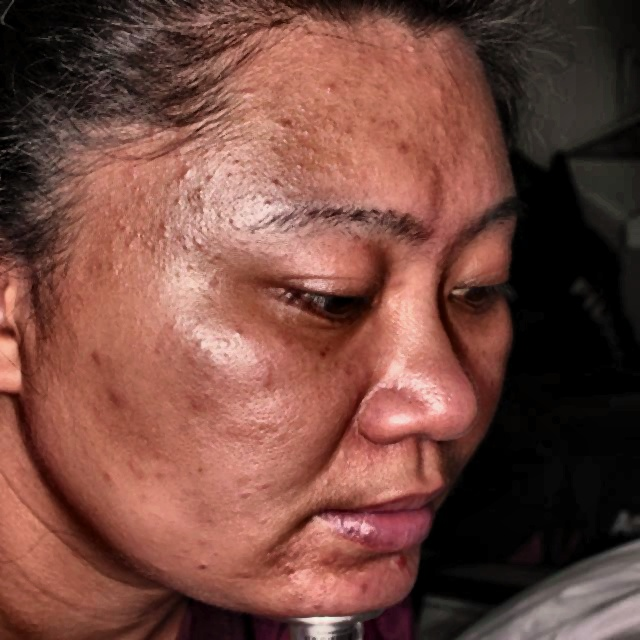comedone: (100, 385, 136, 407), (388, 549, 413, 575), (79, 346, 117, 360), (319, 548, 342, 568), (353, 576, 371, 591)
